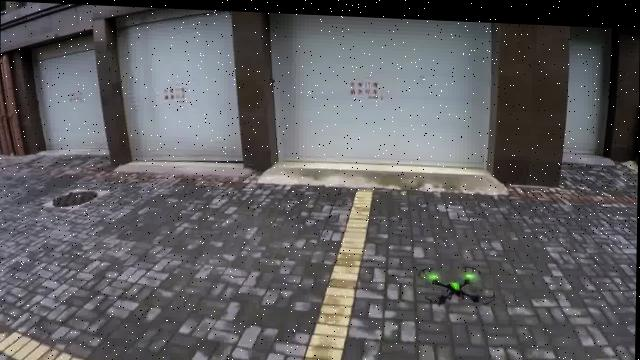drone: (413, 255, 499, 305)
